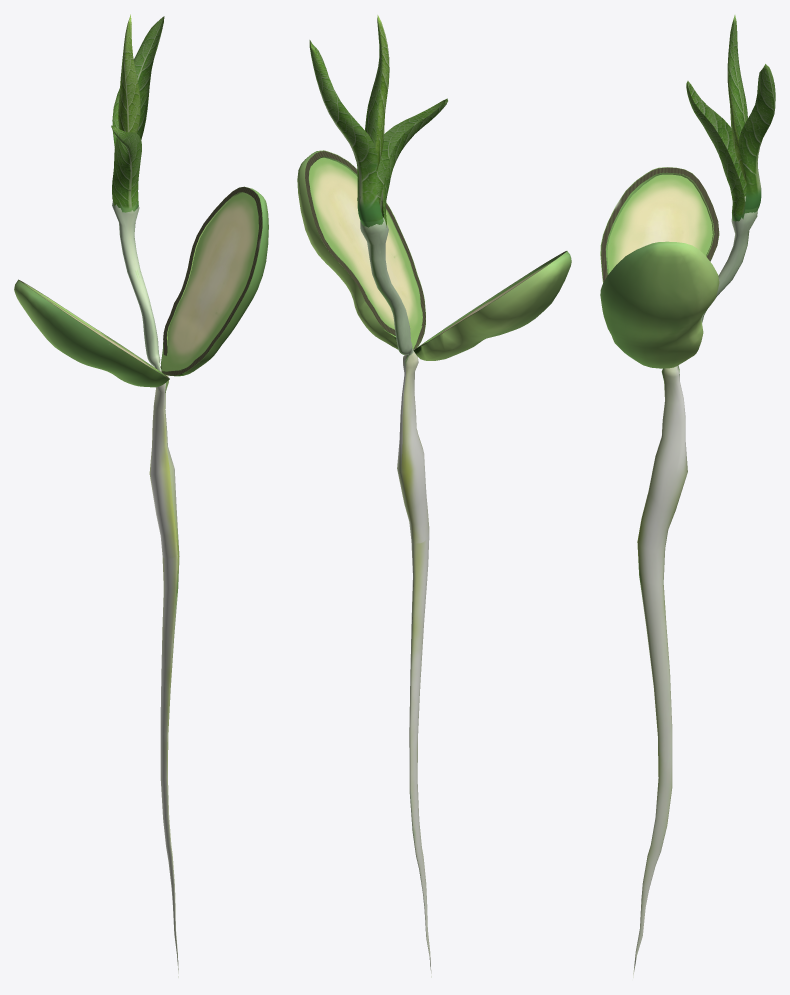
File: sw_zwqg_ld4.FBX
3 views of the same model, side by side, from view 1: azimuth 30°, elevation 25°; view 2: azimuth 150°, elevation 25°; view 3: azimuth 270°, elevation 25° (orthographic). The views are drawn at different scales.
Parts seen in each view (by area): view 1: sw_zwqg_ld4_02, sw_zwqg_ld4_01; view 2: sw_zwqg_ld4_02, sw_zwqg_ld4_01; view 3: sw_zwqg_ld4_02, sw_zwqg_ld4_01.
Boxes of the visible parts, bbox=[...] form: sw_zwqg_ld4_02: bbox=[14, 186, 268, 977]; sw_zwqg_ld4_01: bbox=[111, 14, 164, 212]; sw_zwqg_ld4_02: bbox=[297, 150, 571, 977]; sw_zwqg_ld4_01: bbox=[309, 15, 447, 227]; sw_zwqg_ld4_02: bbox=[600, 167, 757, 977]; sw_zwqg_ld4_01: bbox=[686, 15, 775, 221].
Size of what is drawn, in the model's own units: 5.4 by 20.06 by 3.29.
2 materials, 2 textured.
